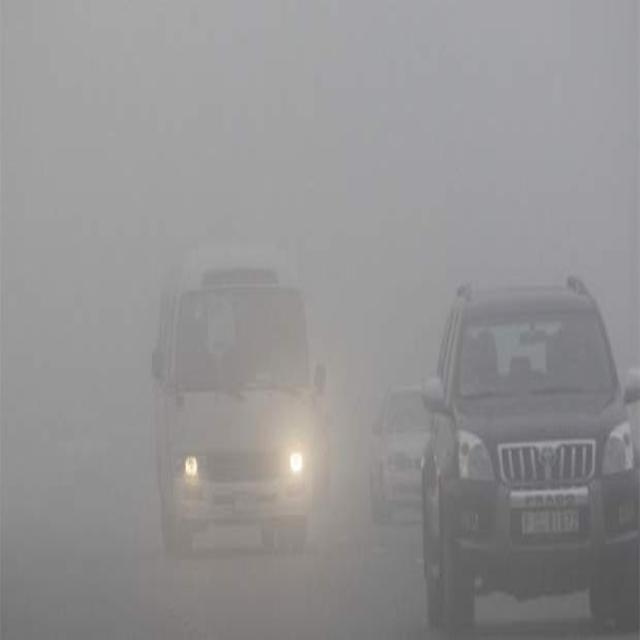car: (408, 278, 638, 631), (366, 378, 436, 525)
truck: (154, 239, 326, 556)
